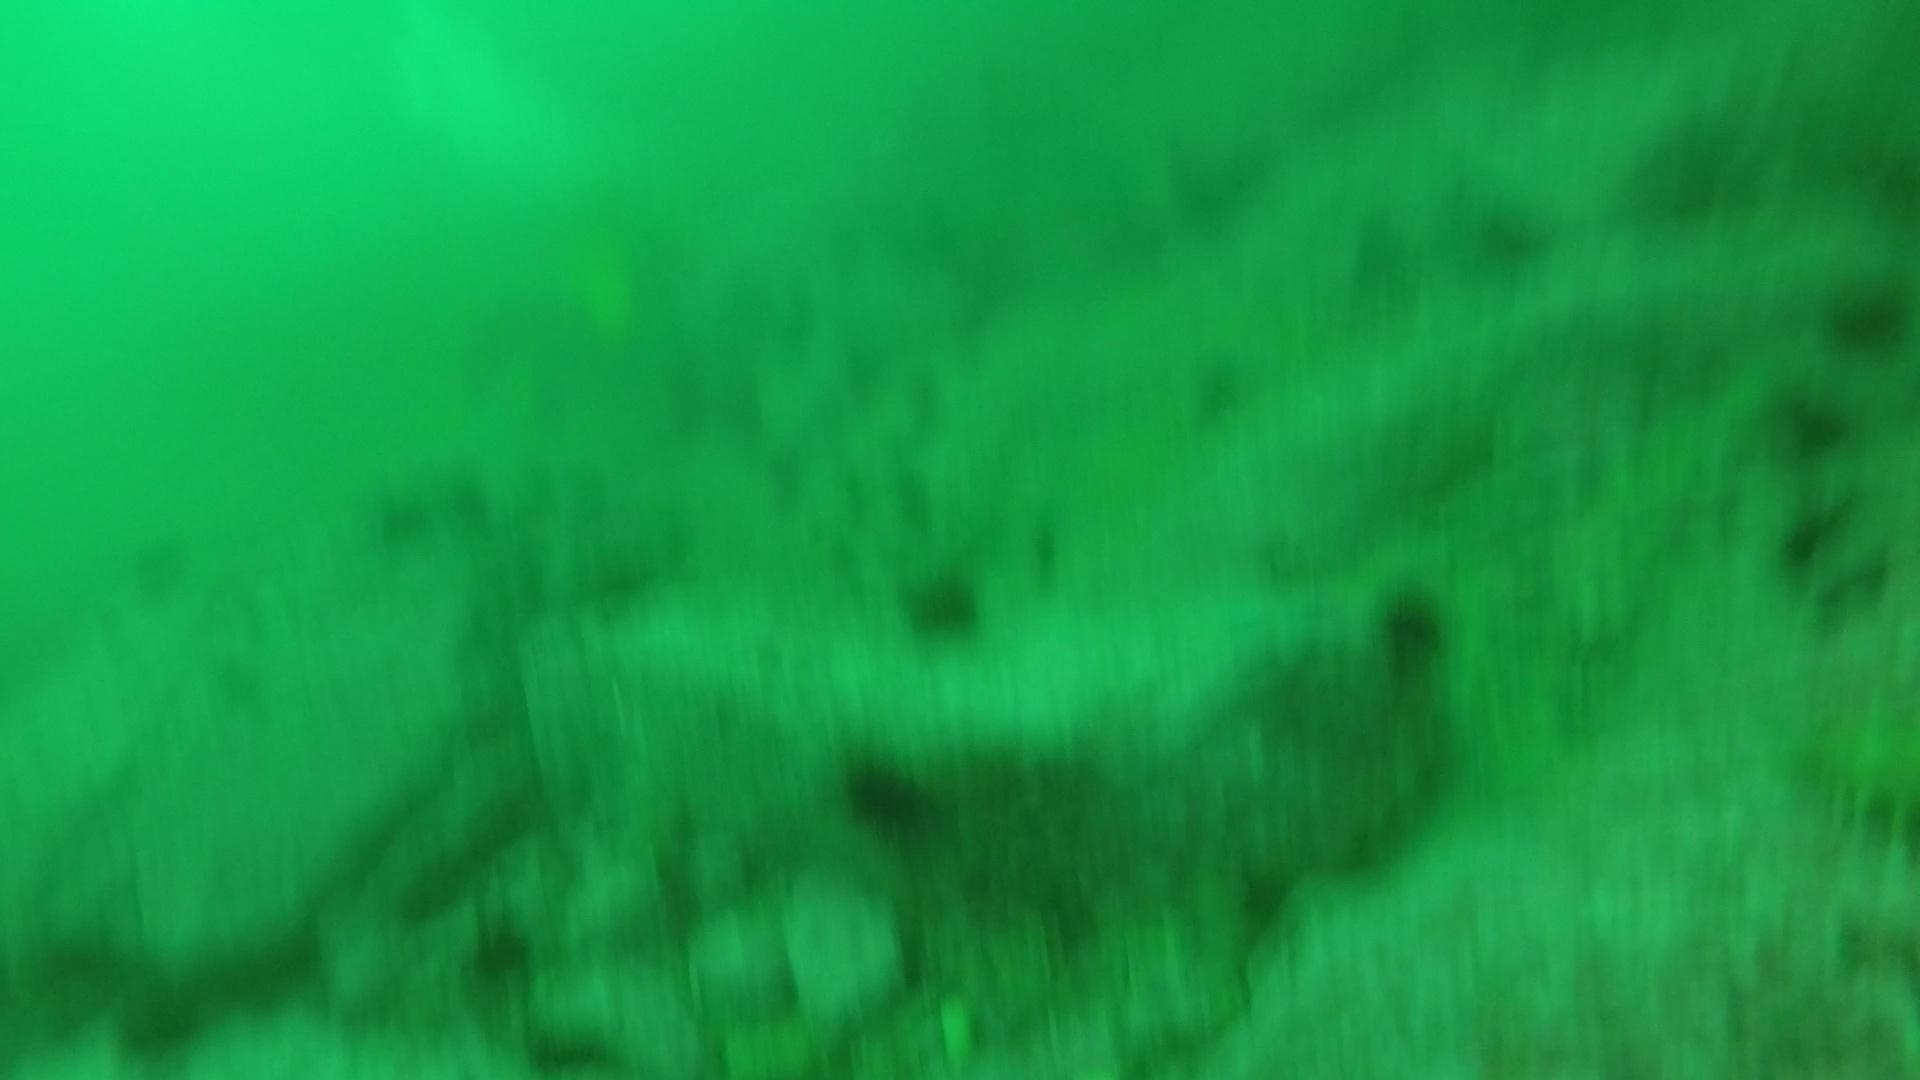echinus: (1623, 108, 1758, 231), (836, 746, 938, 837), (1818, 272, 1915, 357), (895, 562, 990, 647), (1762, 381, 1858, 464), (1370, 582, 1455, 673), (1464, 194, 1553, 276), (363, 481, 436, 553), (436, 471, 495, 531)
holothurian: (1793, 711, 1919, 837)
